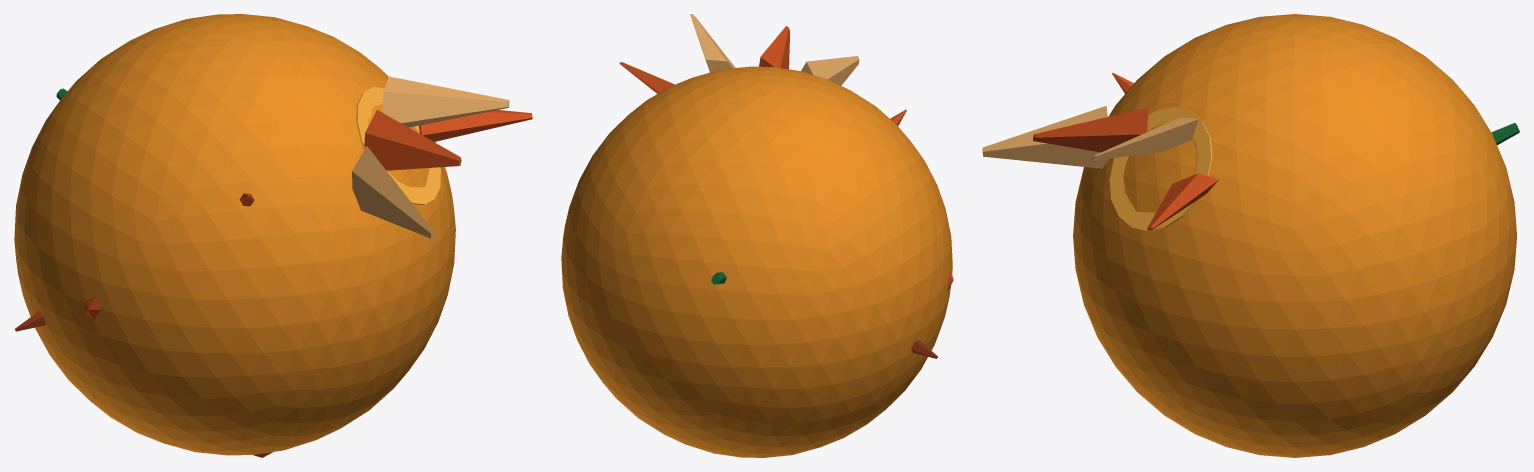
File: Desert_08.fbx
3 views of the same model, side by side, from view 1: azimuth 30°, elevation 25°; view 2: azimuth 150°, elevation 25°; view 3: azimuth 270°, elevation 25° (orthographic). The views are drawn at different scales.
Parts seen in each view (by area): view 1: Desert_08; view 2: Desert_08; view 3: Desert_08.
Boxes of the visible parts, bbox=[...] form: Desert_08: bbox=[14, 14, 532, 457]; Desert_08: bbox=[561, 14, 953, 457]; Desert_08: bbox=[982, 14, 1519, 457].
Bounding box in the file's own units: 6.86 × 6 × 7.26.
Materials: 1 (1 with a texture image).
